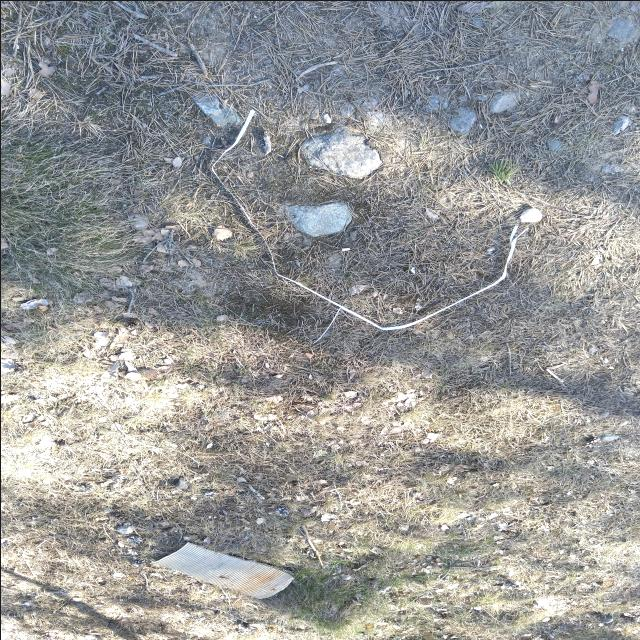Corrugated carton: (149, 541, 293, 598)
Rope - strings: (211, 108, 527, 343)
